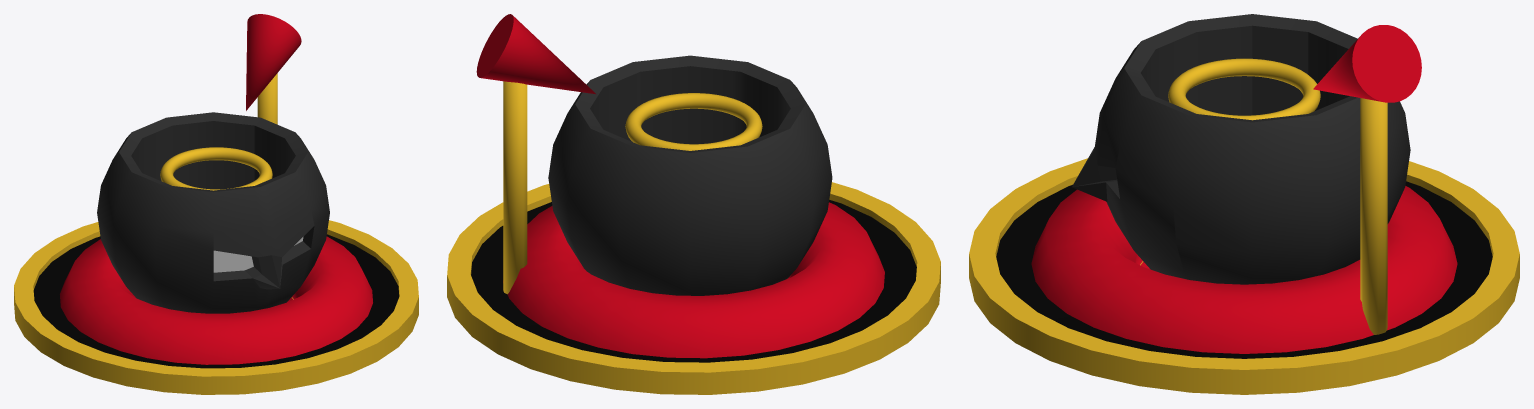
File: Angry_pimple.fbx
The picture shows the model from 3 angles, left to right: view 1: azimuth 30°, elevation 25°; view 2: azimuth 150°, elevation 25°; view 3: azimuth 270°, elevation 25°; orthographic projection. The views are drawn at different scales.
Parts seen in each view (by area): view 1: Cylinder, Sphere, Cylinder.002, Torus.002; view 2: Cylinder, Sphere, Cylinder.002, Torus.002; view 3: Cylinder, Sphere, Cylinder.002, Torus.002.
Part boxes in pixels (left/top/right/bottom): Cylinder: left=14, top=220, right=418, bottom=394; Sphere: left=97, top=112, right=329, bottom=313; Cylinder.002: left=246, top=14, right=301, bottom=124; Torus.002: left=160, top=147, right=272, bottom=190; Cylinder: left=447, top=182, right=940, bottom=394; Sphere: left=548, top=55, right=832, bottom=295; Cylinder.002: left=476, top=14, right=595, bottom=294; Torus.002: left=625, top=93, right=762, bottom=150; Cylinder: left=969, top=158, right=1519, bottom=394; Sphere: left=1072, top=14, right=1410, bottom=284; Cylinder.002: left=1313, top=25, right=1421, bottom=334; Torus.002: left=1168, top=58, right=1320, bottom=120.
Size of the model in its own units: 100 by 66.83 by 100.
